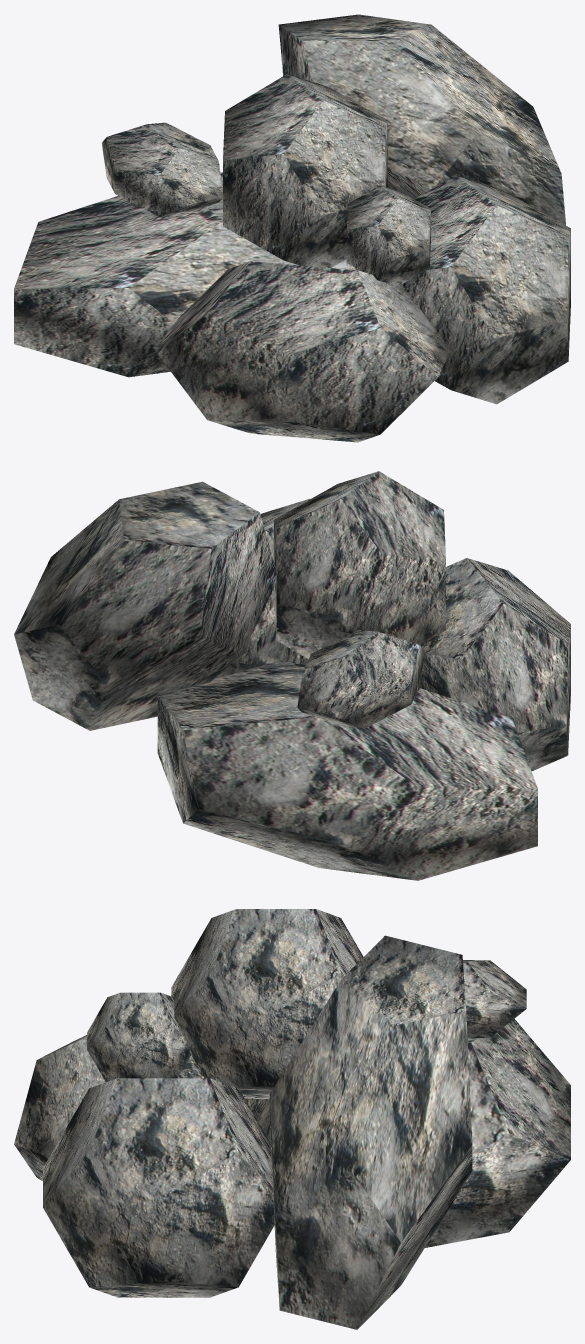
The model's file is Obstacle_Rocks.fbx.
The picture shows the model from 3 angles, top to bottom: view 1: azimuth 30°, elevation 25°; view 2: azimuth 150°, elevation 25°; view 3: azimuth 270°, elevation 25°; orthographic projection. The views are drawn at different scales.
Visible parts, largest first — view 1: pSolid1, pSolid5, pSolid2, pSolid4, pSolid3, pSolid7, pSolid6; view 2: pSolid2, pSolid5, pSolid3, pSolid1, pSolid7, pSolid4; view 3: pSolid5, pSolid4, pSolid3, pSolid2, pSolid6, pSolid1, pSolid7.
Part boxes in pixels (x1=…): pSolid1: x1=157, y1=261, x2=450, y2=442; pSolid5: x1=278, y1=14, x2=565, y2=225; pSolid2: x1=14, y1=172, x2=360, y2=377; pSolid4: x1=402, y1=175, x2=570, y2=404; pSolid3: x1=223, y1=74, x2=387, y2=267; pSolid7: x1=101, y1=122, x2=222, y2=216; pSolid6: x1=346, y1=185, x2=430, y2=285; pSolid2: x1=157, y1=661, x2=537, y2=880; pSolid5: x1=14, y1=481, x2=276, y2=730; pSolid3: x1=274, y1=471, x2=445, y2=659; pSolid1: x1=420, y1=558, x2=570, y2=770; pSolid7: x1=297, y1=630, x2=424, y2=728; pSolid4: x1=213, y1=498, x2=309, y2=679; pSolid5: x1=269, y1=935, x2=472, y2=1329; pSolid4: x1=43, y1=1078, x2=274, y2=1297; pSolid3: x1=171, y1=909, x2=363, y2=1098; pSolid2: x1=249, y1=1019, x2=570, y2=1247; pSolid6: x1=87, y1=992, x2=190, y2=1082; pSolid1: x1=14, y1=1035, x2=252, y2=1180; pSolid7: x1=463, y1=960, x2=526, y2=1038.
Size of the model in its own units: 5.76 by 3.19 by 4.96.
1 material, 1 textured.
